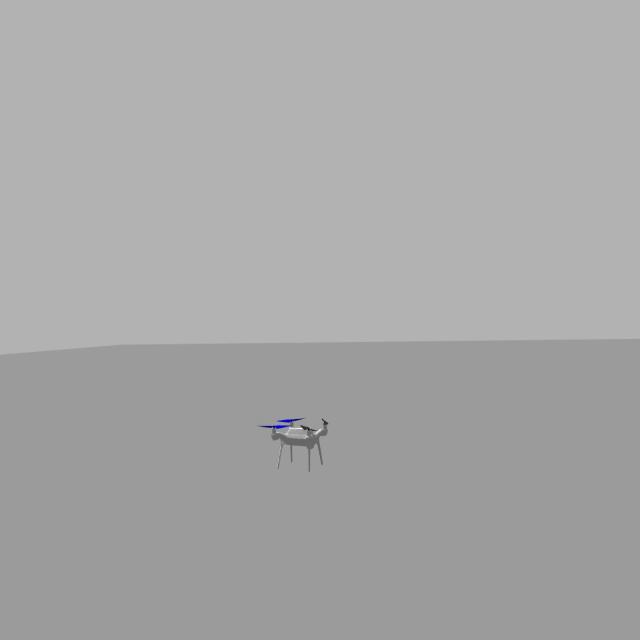Drone: (257, 402, 333, 476)
